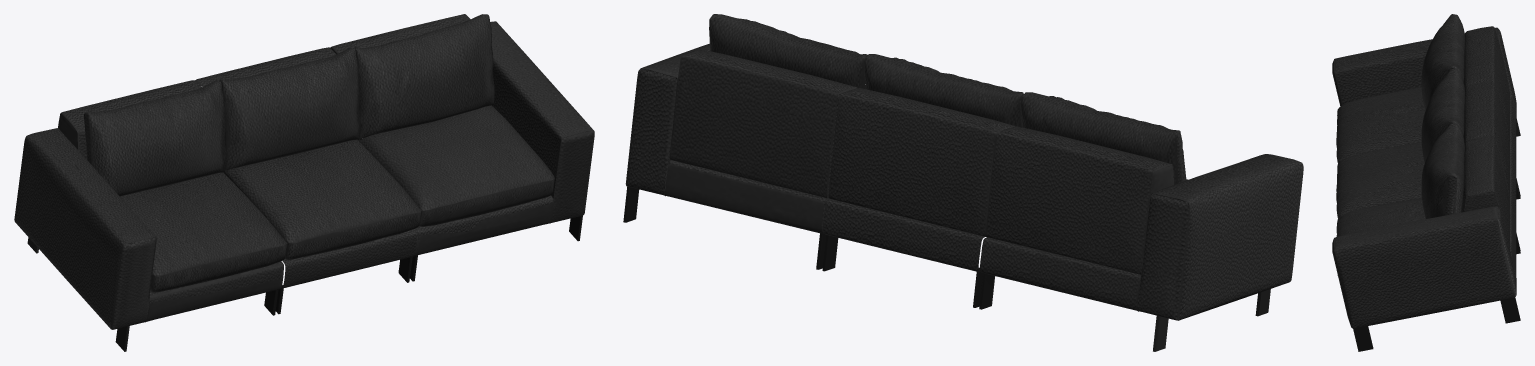
File: Three_Seat_Multi_person_sofa_d3da2fd1-76fc-58f6-812a-b3f6b6c46c65.glb
3 views of the same model, side by side, from view 1: azimuth 30°, elevation 25°; view 2: azimuth 150°, elevation 25°; view 3: azimuth 270°, elevation 25° (orthographic). The views are drawn at different scales.
Parts seen in each view (by area): view 1: raw_model.obj; view 2: raw_model.obj; view 3: raw_model.obj.
Boxes of the visible parts, x1,y1,x2,y2 form: raw_model.obj: (14,14,594,351); raw_model.obj: (623,14,1303,351); raw_model.obj: (1332,14,1520,351).
Bounding box in the file's own units: 2.34 × 0.9136 × 0.958.
1 material, 1 textured.
